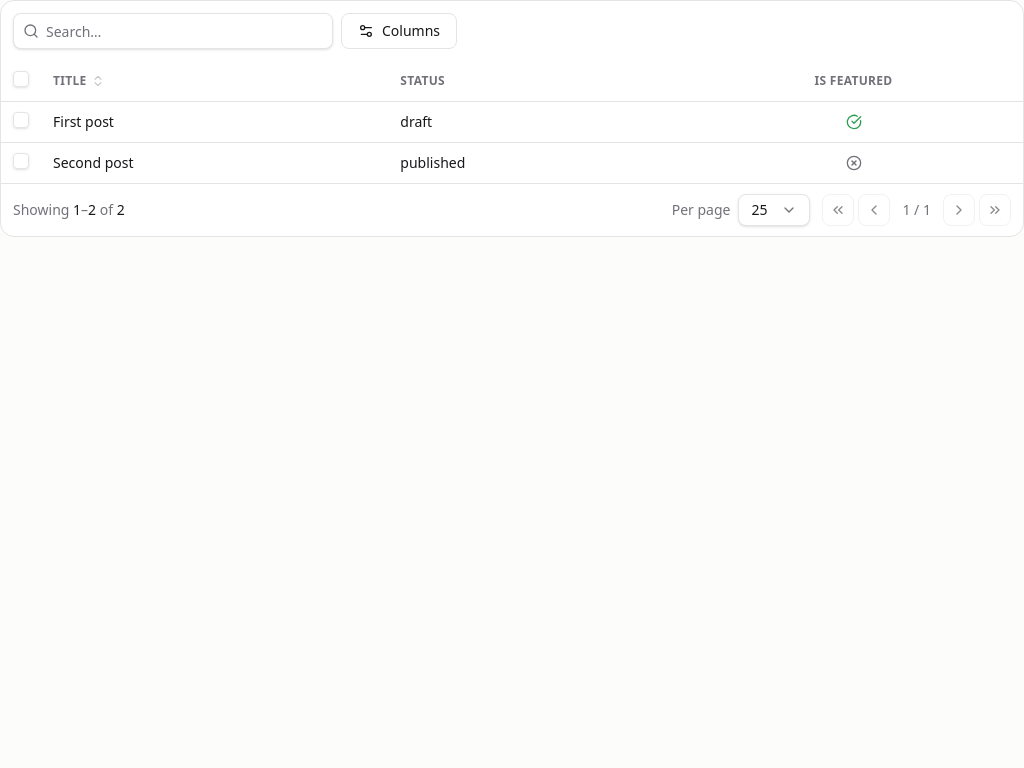
Test: row selection and bulk actions › select-all picks every row on the page
The width and height of the screenshot is (1024, 768).
Check: the text "First post" is shown, box [53,112,114,132]
Click the checkbox named "Select all rows on this page".
click(21, 79)  # box [13,71,29,87]
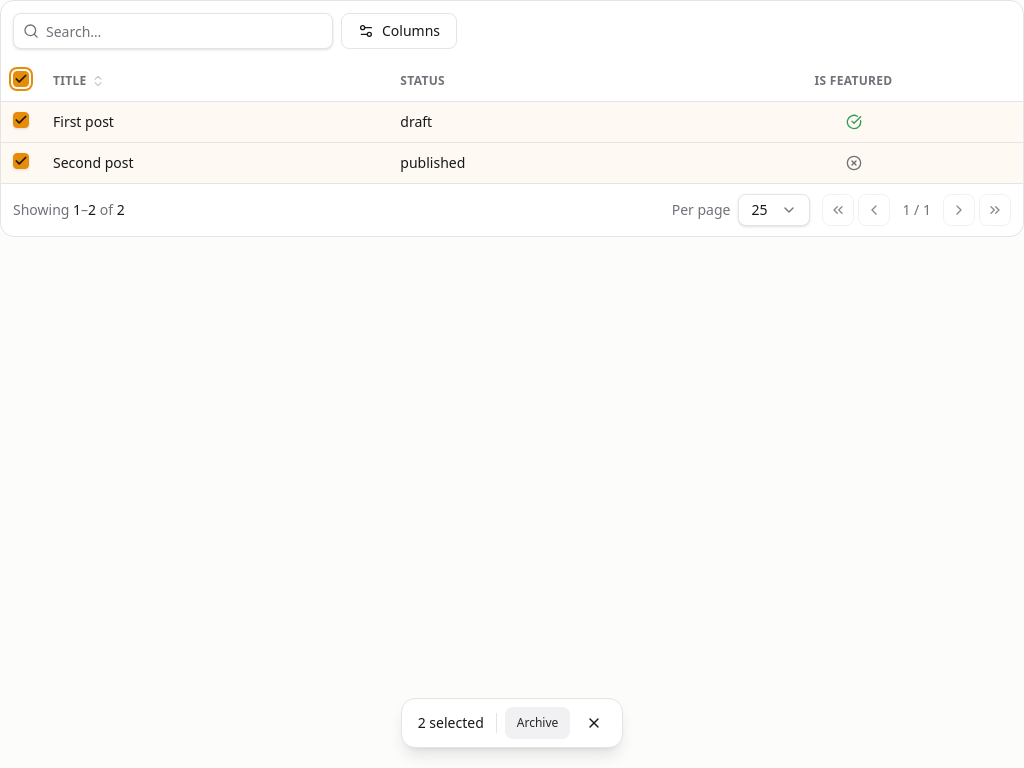
Check: the text "2 selected" is shown, box [414,713,488,733]
